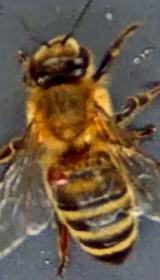varroa_mite: (37, 154, 78, 194)
